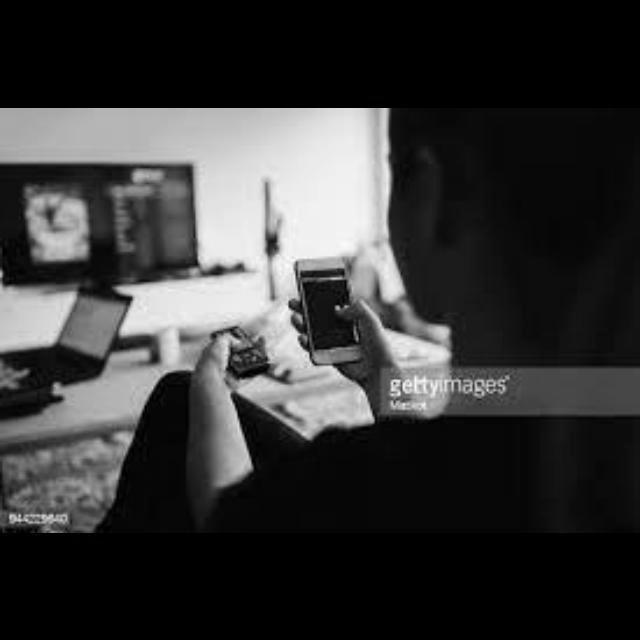fake: (262, 230, 406, 397)
